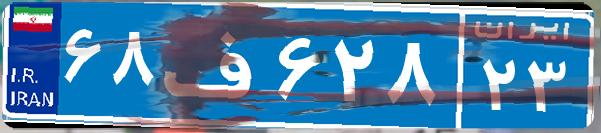2: (330, 28, 385, 110), (475, 38, 525, 113)
3: (525, 38, 570, 115)
6: (273, 28, 330, 110), (57, 26, 110, 107)
8: (385, 28, 445, 110), (110, 28, 158, 105)
ف: (158, 15, 273, 115)
